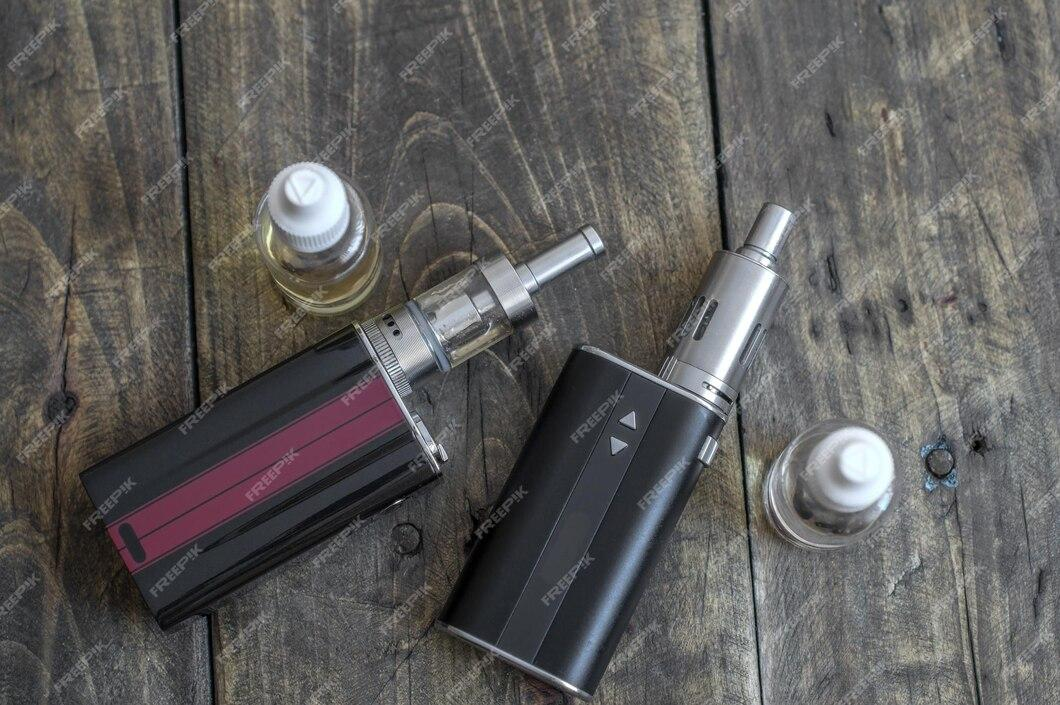Vape: (80, 226, 603, 621), (440, 204, 792, 697)
